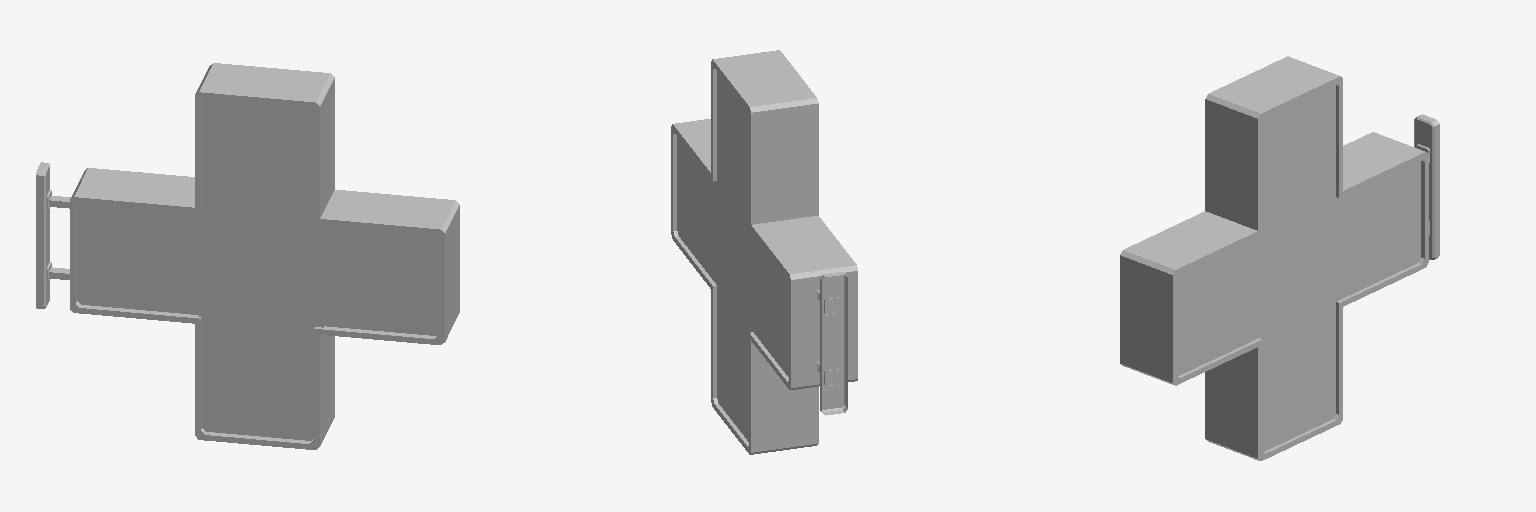
3 renders of one model, left to right at view 1: azimuth 30°, elevation 25°; view 2: azimuth 150°, elevation 25°; view 3: azimuth 270°, elevation 25°, orthographic.
Parts seen in each view (by area): view 1: Bistro_Research_Exterior_Paris_ShopSign_01E_6167; view 2: Bistro_Research_Exterior_Paris_ShopSign_01E_6167; view 3: Bistro_Research_Exterior_Paris_ShopSign_01E_6167.
Part boxes in pixels (x1,y1,x2,y2): Bistro_Research_Exterior_Paris_ShopSign_01E_6167: (36,63,459,449); Bistro_Research_Exterior_Paris_ShopSign_01E_6167: (671,50,857,454); Bistro_Research_Exterior_Paris_ShopSign_01E_6167: (1120,56,1439,460).
Bounding box in the file's own units: 1.35 × 1.49 × 1.24.